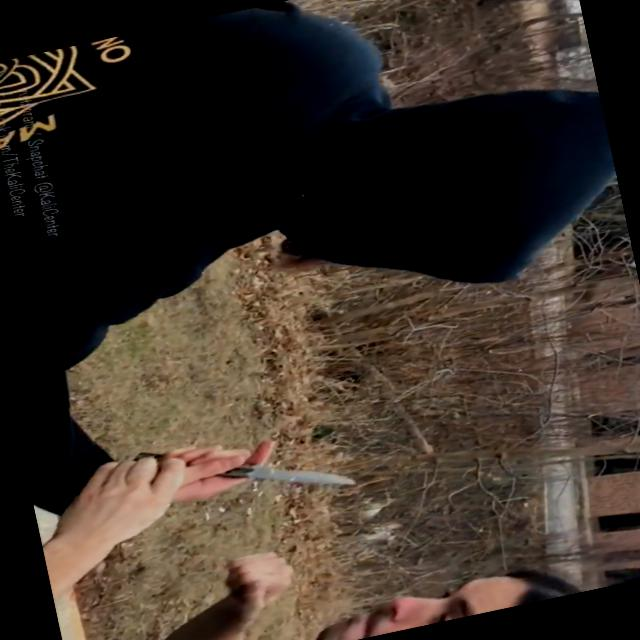knife: (132, 404, 368, 534)
